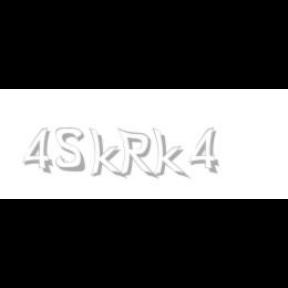4: (22, 128, 54, 174), (189, 128, 220, 174)
R: (117, 128, 155, 180)
S: (56, 128, 86, 172)
k: (88, 128, 126, 180), (152, 128, 190, 180)
